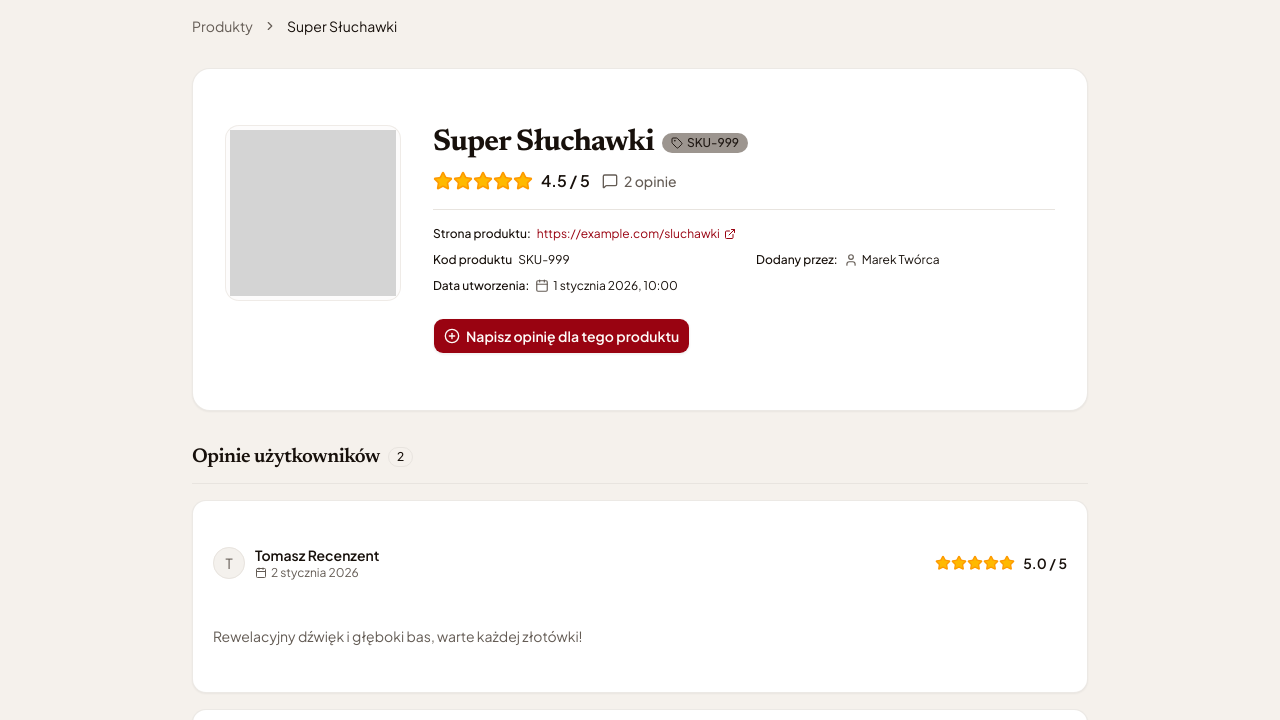
it: app/produkty/[id]/_components/ProductDetails › opens review form and hides existing review list when 'Napisz opinię dla tego produktu' is clicked
Click the button "Napisz opinię dla tego produktu": (562, 336) [433,318,690,354]
(page scrolled)
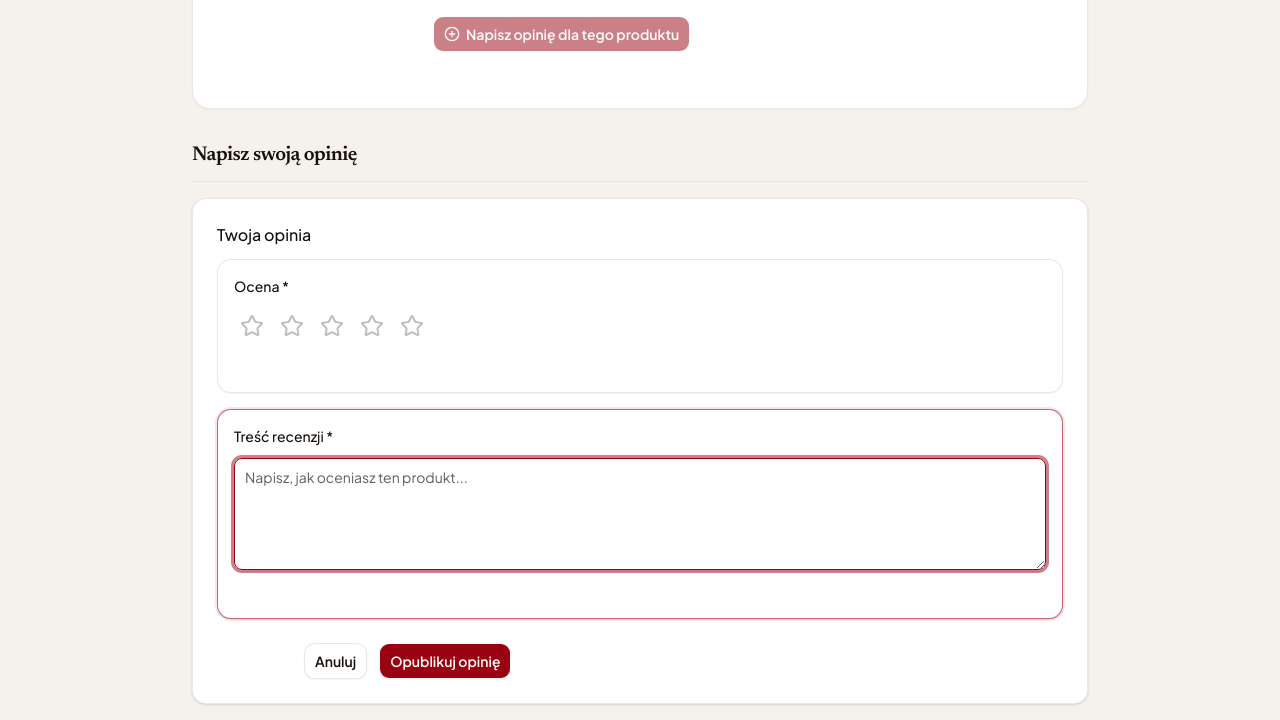
Expected: the heading "Napisz swoją opinię" is shown, [192,141,357,169]
Expected: the button "Opublikuj opinię" is shown, [379,643,512,679]
Expected: the button "Anuluj" is shown, [304,643,367,679]
